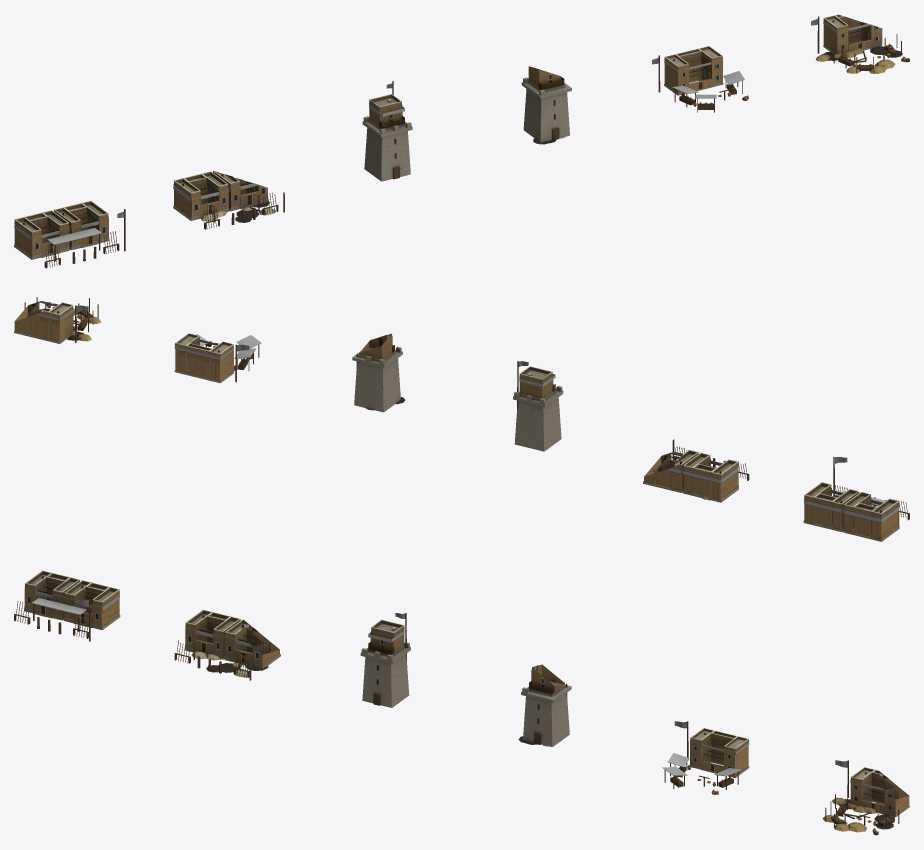
File: rts-bronze-israelite.glb
3 views of the same model, one above another, from view 1: azimuth 30°, elevation 25°; view 2: azimuth 150°, elevation 25°; view 3: azimuth 330°, elevation 25° (orthographic).
Parts seen in each view (by area): view 1: LOD0, LOD0.001, LOD0.002, LOD0.005, LOD0.004, LOD0.003; view 2: LOD0, LOD0.001, LOD0.002, LOD0.003, LOD0.004, LOD0.005; view 3: LOD0, LOD0.001, LOD0.002, LOD0.005, LOD0.004, LOD0.003.
Boxes of the visible parts, <box> form: LOD0: <box>14,200,125,268</box>; LOD0.001: <box>173,170,284,229</box>; LOD0.002: <box>362,81,412,181</box>; LOD0.005: <box>811,14,909,73</box>; LOD0.004: <box>652,46,748,112</box>; LOD0.003: <box>521,66,571,144</box>; LOD0: <box>803,457,909,541</box>; LOD0.001: <box>643,439,749,502</box>; LOD0.002: <box>513,361,563,451</box>; LOD0.003: <box>352,333,405,412</box>; LOD0.004: <box>174,333,261,383</box>; LOD0.005: <box>14,297,101,343</box>; LOD0: <box>14,570,120,641</box>; LOD0.001: <box>174,609,280,680</box>; LOD0.002: <box>360,613,410,707</box>; LOD0.005: <box>822,760,909,835</box>; LOD0.004: <box>662,721,749,794</box>; LOD0.003: <box>518,664,571,746</box>.
Size of what is drawn, in the model's own units: 16.33 by 1.48 by 1.36.
2 materials, 2 textured.
